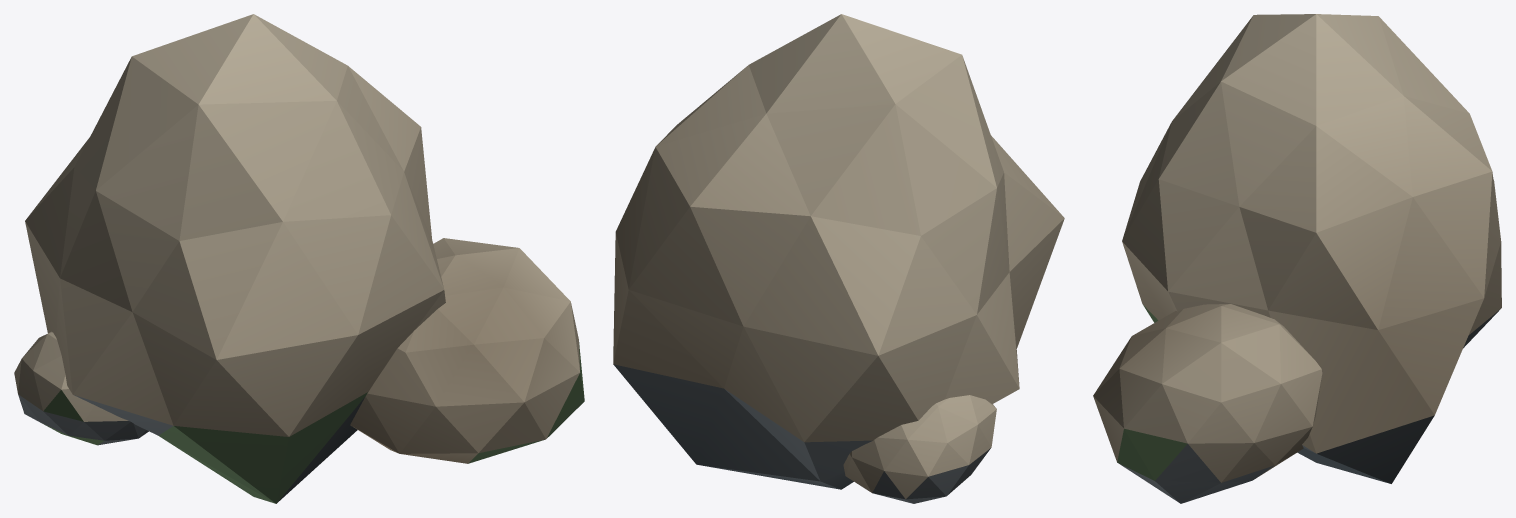
File: env_river_rock_river_wet_01.glb
3 views of the same model, side by side, from view 1: azimuth 30°, elevation 25°; view 2: azimuth 150°, elevation 25°; view 3: azimuth 270°, elevation 25° (orthographic). The views are drawn at different scales.
Visible parts, largest first — view 1: rock_river_wet_01; view 2: rock_river_wet_01; view 3: rock_river_wet_01.
Boxes of the visible parts, <box> form: rock_river_wet_01: <box>14,14,584,503</box>; rock_river_wet_01: <box>613,14,1064,503</box>; rock_river_wet_01: <box>1093,14,1501,503</box>.
Size of the model in its own units: 0.495 by 0.5206 by 0.4298.
